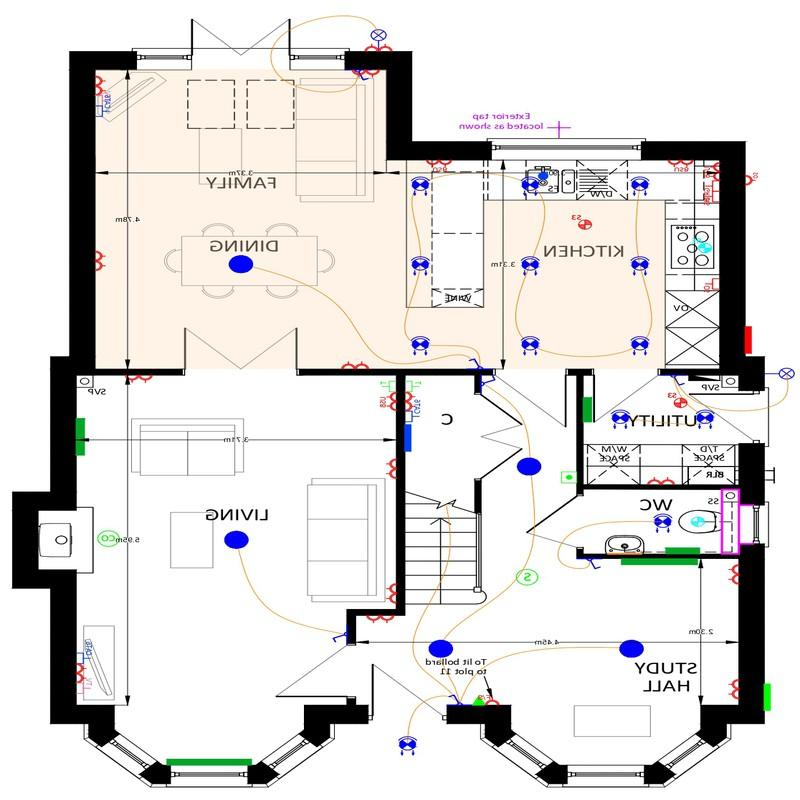BT Entry Point: (469, 690, 488, 709)
Cat 6 Data Socket: (69, 645, 96, 667), (404, 407, 431, 426), (95, 104, 116, 123)
Ceiling Mounted Continuous Extract Fan With Boost Mode Activated By Light Switch: (685, 509, 709, 532)
Ceiling Mounted Continuous Extract Fan With Local Boost Switch: (566, 209, 605, 233), (667, 393, 688, 414)
Co-Ax TV Socket: (94, 94, 116, 105)
Consumer Unit: (686, 371, 723, 389)
Double Socket: (380, 578, 400, 612), (362, 614, 396, 631), (350, 66, 386, 81), (337, 356, 374, 370), (94, 247, 110, 279), (723, 561, 741, 588), (123, 376, 163, 388), (382, 455, 397, 486), (726, 671, 740, 704), (641, 475, 681, 486), (401, 389, 420, 412), (94, 74, 112, 94), (74, 663, 89, 686), (363, 43, 398, 52)
Electric Meter Box: (743, 324, 757, 354)
External Wall Light: (764, 362, 797, 392), (365, 23, 393, 51)
Fused spur: (485, 687, 505, 707)
Gas Meter Box: (763, 675, 787, 715)
Hob Switch: (702, 180, 721, 192)
Light Switch: (325, 627, 347, 650), (662, 375, 690, 393), (436, 691, 466, 707), (460, 353, 490, 369), (582, 558, 606, 573), (353, 69, 374, 83), (481, 372, 499, 388)
Low Energy Downlighter: (515, 326, 557, 366), (399, 171, 434, 207), (511, 253, 549, 286), (615, 331, 651, 365), (404, 329, 433, 371), (392, 727, 427, 760), (621, 250, 657, 280), (609, 404, 646, 432), (651, 501, 675, 544), (406, 250, 439, 281), (625, 172, 657, 203), (689, 401, 721, 429), (517, 174, 540, 202)
Low Energy Pendant Light: (210, 247, 268, 282), (512, 443, 542, 490), (421, 635, 458, 670), (215, 529, 260, 555), (615, 635, 647, 667)
Mains Wired Smoke Detector: (514, 564, 550, 589)
Outside Socket: (743, 169, 763, 192)
Outside Tap: (545, 116, 577, 143)
Oven Switch: (700, 274, 720, 298), (704, 190, 720, 208)
Programmable Room Thermostat: (559, 464, 577, 489)
Radiator: (159, 747, 253, 768), (616, 557, 700, 571), (77, 415, 90, 460), (581, 392, 598, 425), (660, 546, 705, 556)
Recirculating Extractor Fan: (686, 233, 717, 258)
Telephone Socket: (369, 378, 398, 393), (401, 377, 427, 393)
Telephone SocketUnderfloor Heating Manifold: (401, 420, 418, 455)
USB Double Socket: (658, 155, 693, 177), (375, 392, 398, 419), (421, 160, 456, 174), (703, 159, 720, 182)
Water Entry Position: (537, 168, 552, 182)
